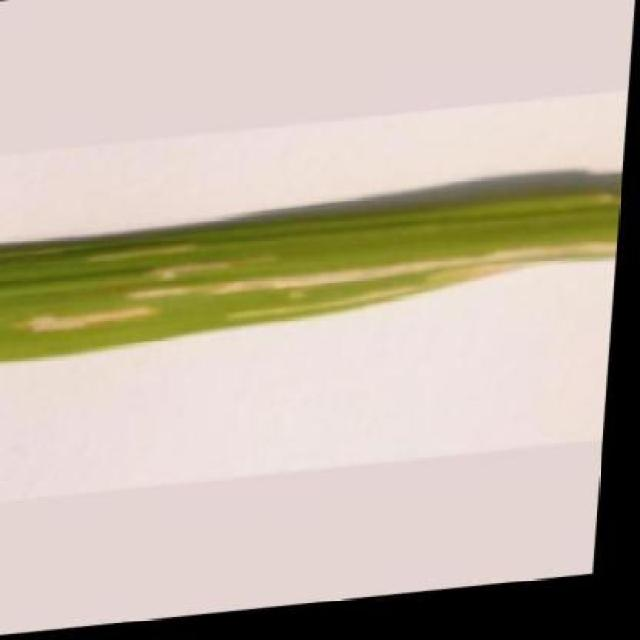Brown_Spot: (0, 188, 626, 369)
